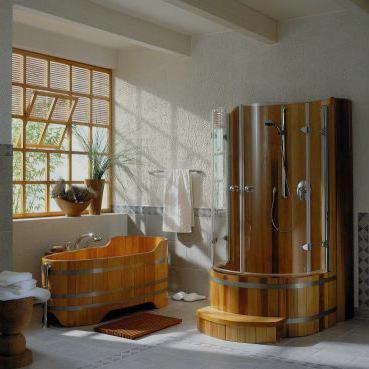Ducha: (210, 104, 343, 335)
